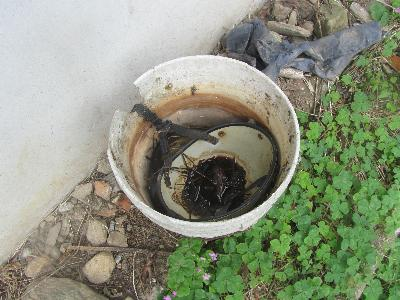bucket: (103, 55, 300, 234)
